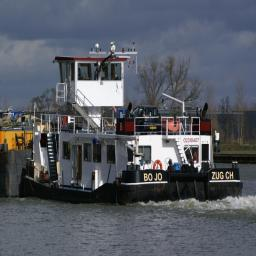tugboat: (22, 40, 245, 211)
